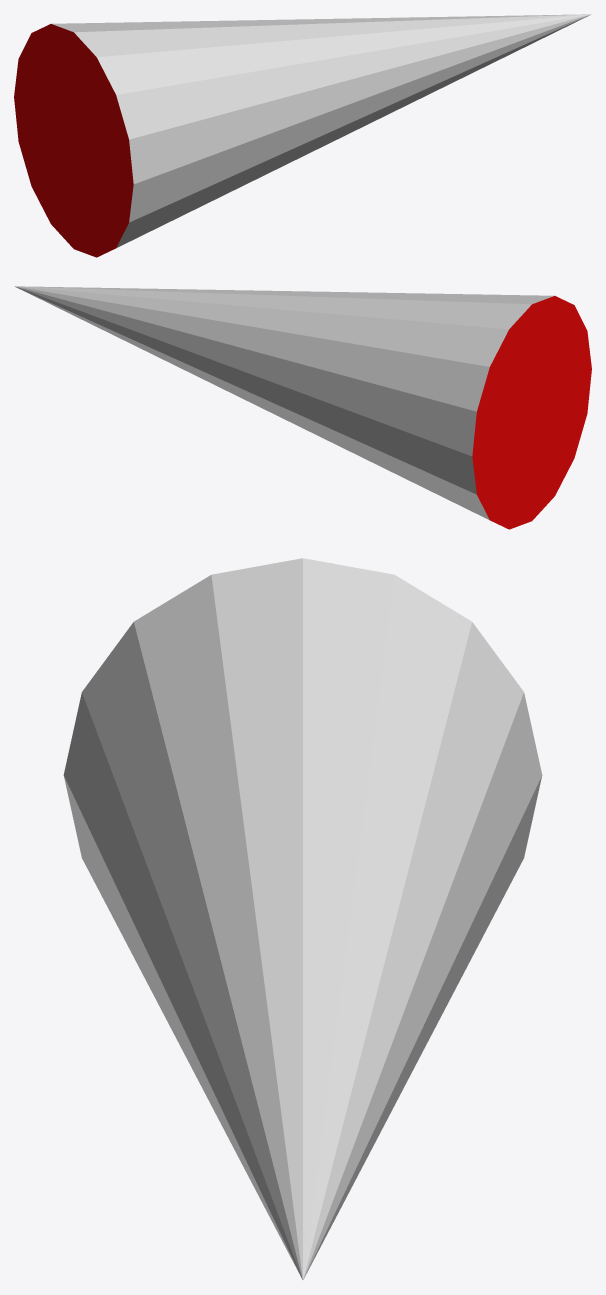
The model's file is triangle.obj.
The picture shows the model from 3 angles, top to bottom: view 1: azimuth 30°, elevation 25°; view 2: azimuth 150°, elevation 25°; view 3: azimuth 270°, elevation 25°; orthographic projection. The views are drawn at different scales.
Bounding box in the file's own units: 0.5 × 0.2 × 0.2.
